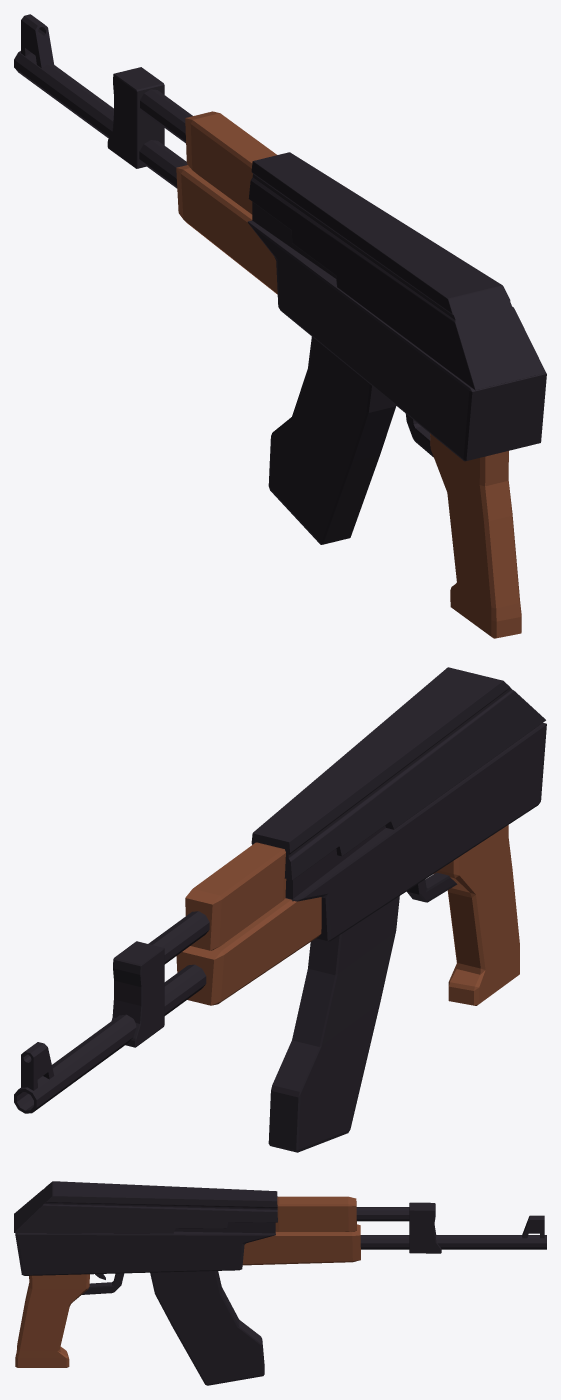
Rendered from stocklessAK.fbx.
3 renders of one model, top to bottom at view 1: azimuth 30°, elevation 25°; view 2: azimuth 150°, elevation 25°; view 3: azimuth 270°, elevation 25°, orthographic. The views are drawn at different scales.
Parts seen in each view (by area): view 1: tOP OF MAIN BODY, Main Body, magazine???, Handle doodad, bottom woddy bit, topp woddy bit.001, nozzle, nozzler connecter, not nozzle but nozzle, Nozzle hat, Cube; view 2: tOP OF MAIN BODY, magazine???, Main Body, Handle doodad, bottom woddy bit, topp woddy bit.001, nozzle, nozzler connecter, not nozzle but nozzle, Cube, Nozzle hat, Shooty thing cover thing; view 3: tOP OF MAIN BODY, Main Body, magazine???, Handle doodad, bottom woddy bit, topp woddy bit.001, nozzle, nozzler connecter, not nozzle but nozzle, Cube, Shooty thing cover thing, Nozzle hat.
Boxes of the visible parts, box(x1,y1,x2,y2) form: tOP OF MAIN BODY: box(248, 152, 545, 390); Main Body: box(247, 220, 546, 461); magazine???: box(268, 336, 396, 544); Handle doodad: box(430, 433, 521, 638); bottom woddy bit: box(176, 165, 277, 294); topp woddy bit.001: box(185, 111, 276, 214); nozzle: box(14, 51, 187, 188); nozzler connecter: box(107, 67, 164, 168); not nozzle but nozzle: box(140, 89, 192, 143); Nozzle hat: box(21, 14, 54, 68); Cube: box(252, 202, 336, 278); tOP OF MAIN BODY: box(251, 667, 545, 880); magazine???: box(268, 896, 399, 1152); Main Body: box(285, 723, 546, 941); Handle doodad: box(433, 825, 519, 1005); bottom woddy bit: box(176, 897, 321, 1005); topp woddy bit.001: box(185, 842, 286, 950); nozzle: box(14, 964, 206, 1113); nozzler connecter: box(111, 941, 164, 1047); not nozzle but nozzle: box(148, 911, 209, 964); Cube: box(285, 825, 385, 901); Nozzle hat: box(21, 1042, 54, 1090); Shooty thing cover thing: box(406, 872, 457, 902); tOP OF MAIN BODY: box(14, 1181, 277, 1233); Main Body: box(15, 1231, 275, 1275); magazine???: box(150, 1271, 264, 1385); Handle doodad: box(15, 1274, 89, 1367); bottom woddy bit: box(242, 1224, 360, 1265); topp woddy bit.001: box(275, 1196, 356, 1231); nozzle: box(360, 1235, 546, 1249); nozzler connecter: box(409, 1202, 441, 1253); not nozzle but nozzle: box(356, 1207, 409, 1221); Cube: box(174, 1222, 275, 1233); Shooty thing cover thing: box(82, 1273, 124, 1294); Nozzle hat: box(522, 1215, 544, 1238).
Size of the model in its own units: 6.57 by 29.16 by 72.77.
